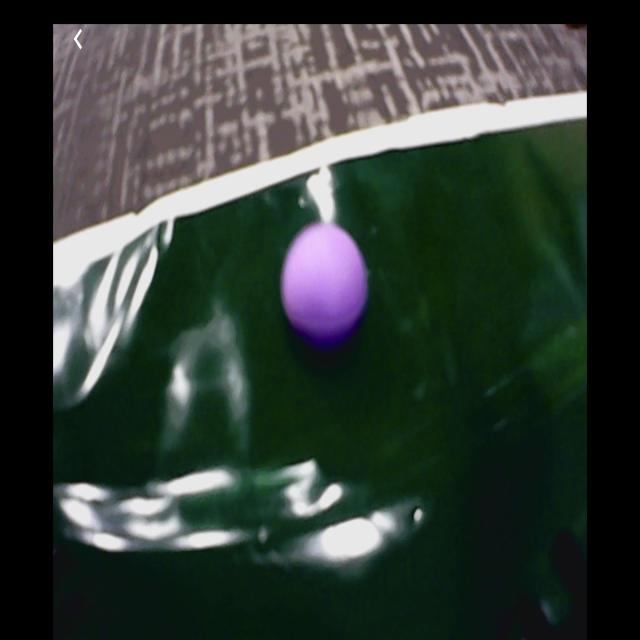ball: (282, 225, 368, 340)
